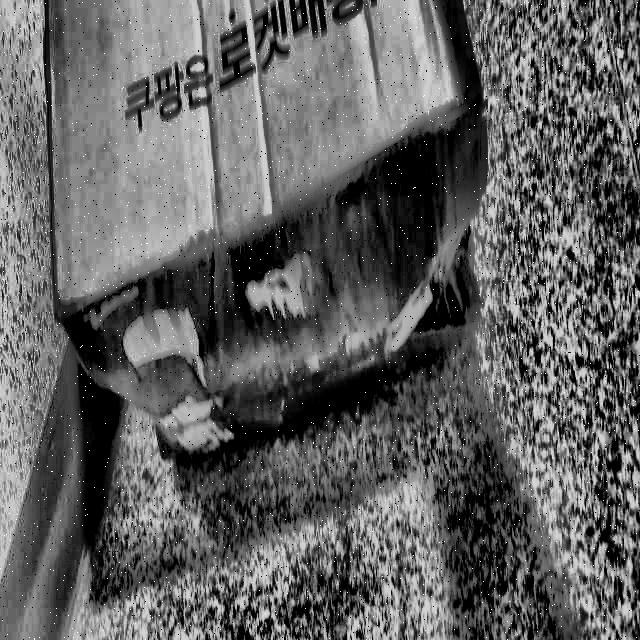box: (29, 0, 504, 492)
wet: (57, 64, 486, 457)
